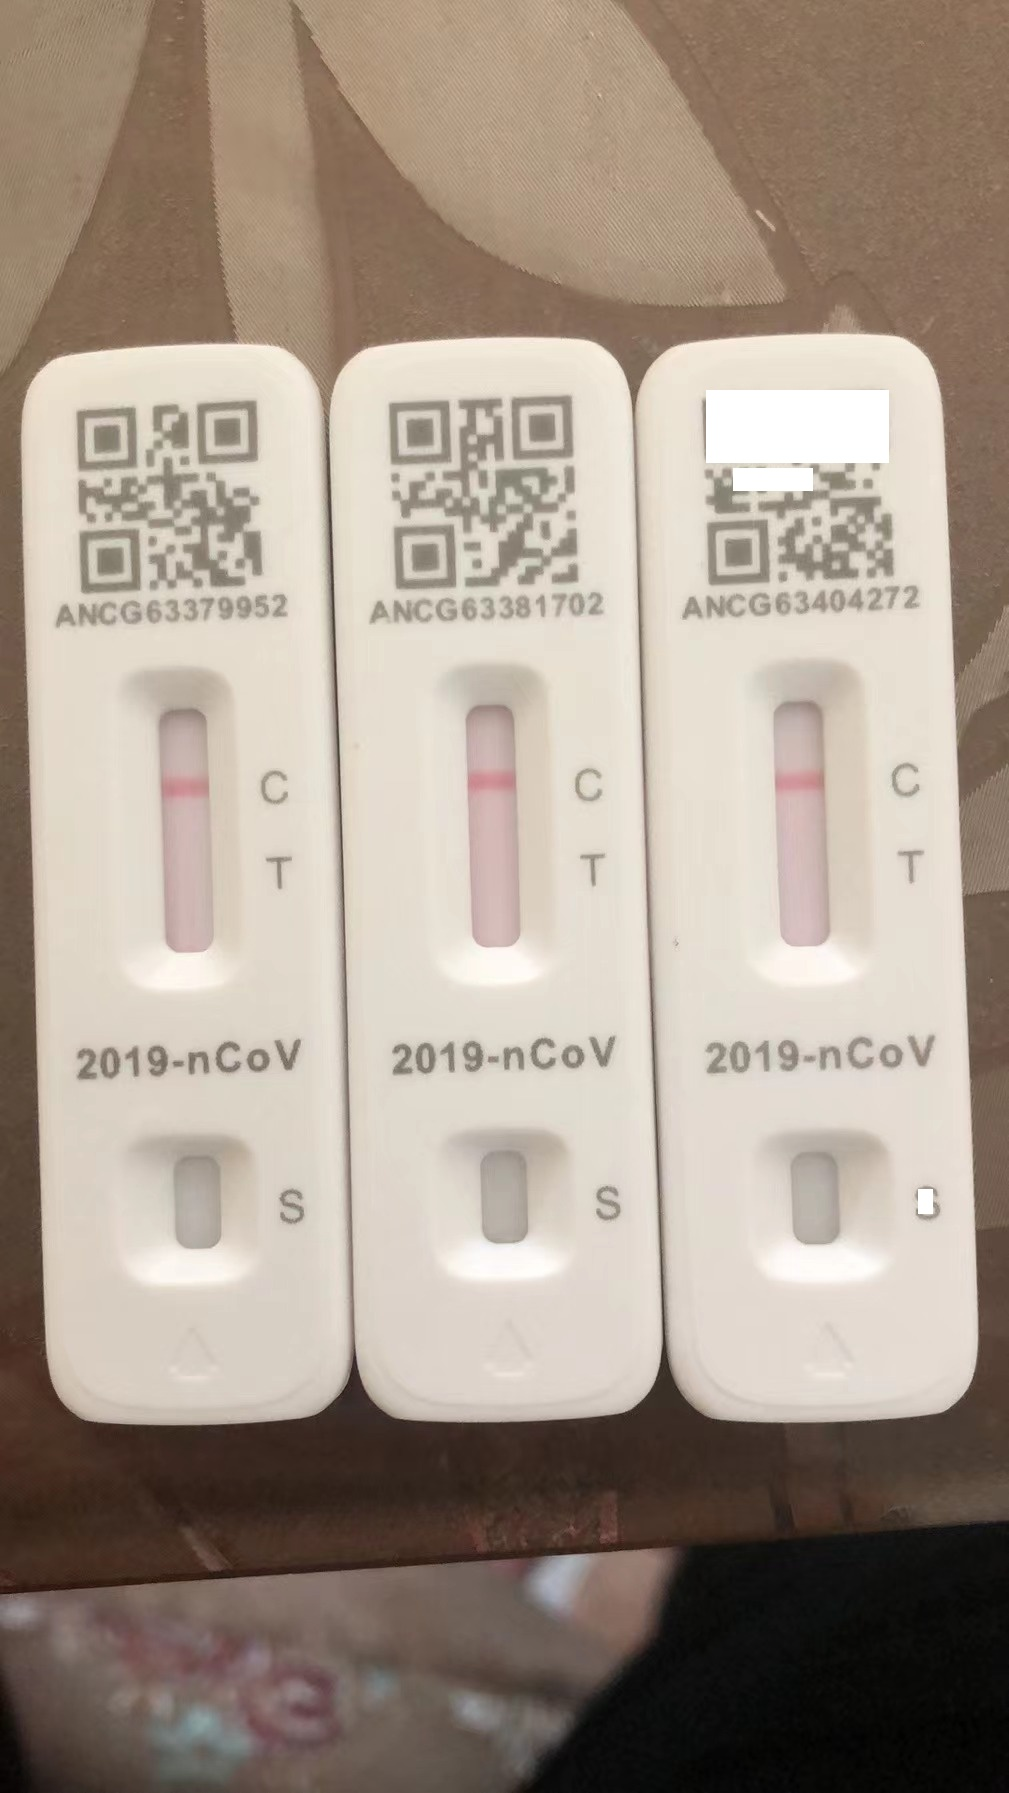negative: (123, 666, 237, 1001), (437, 663, 548, 995), (752, 656, 860, 993)
